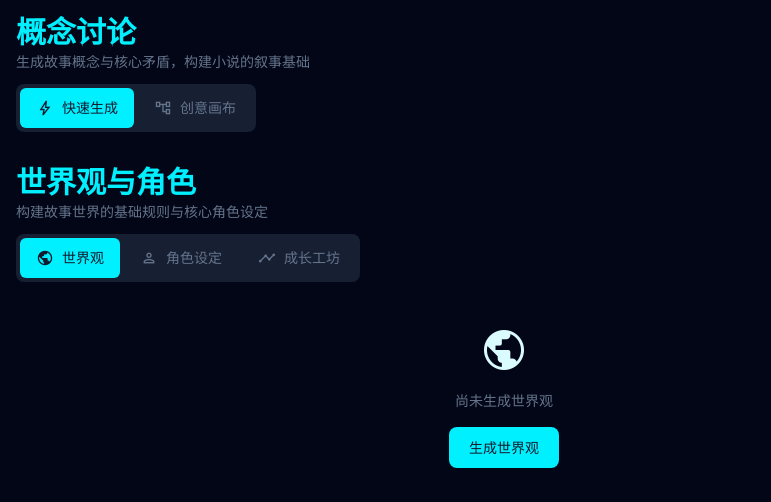
Test: Stage2Page › switches to character tab
Click the button "角色设定": (181, 258) [124,238,238,278]
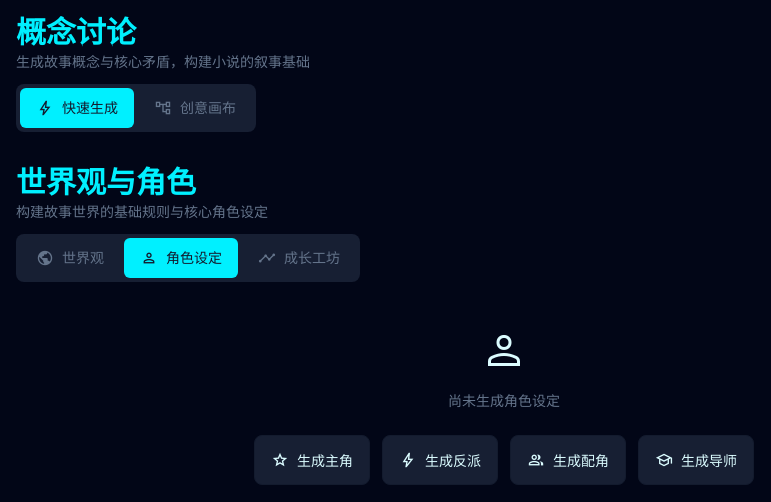
Expected: the text "尚未生成角色设定" is shown, [448,392,560,409]
